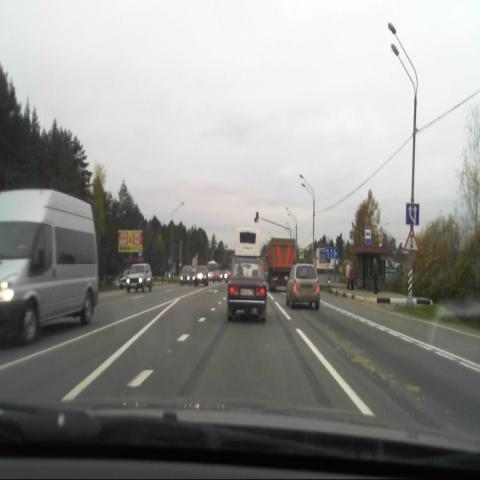1_8: (403, 227, 419, 253)
